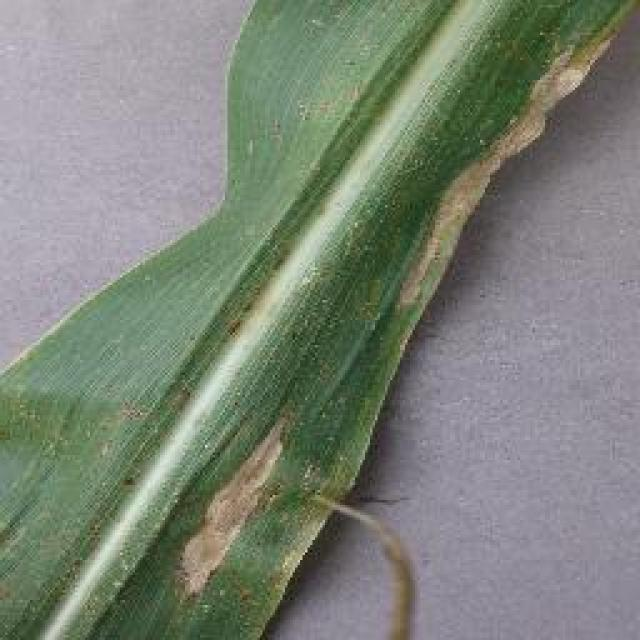Corn___Northern_Leaf_Blight: (168, 25, 620, 581)
